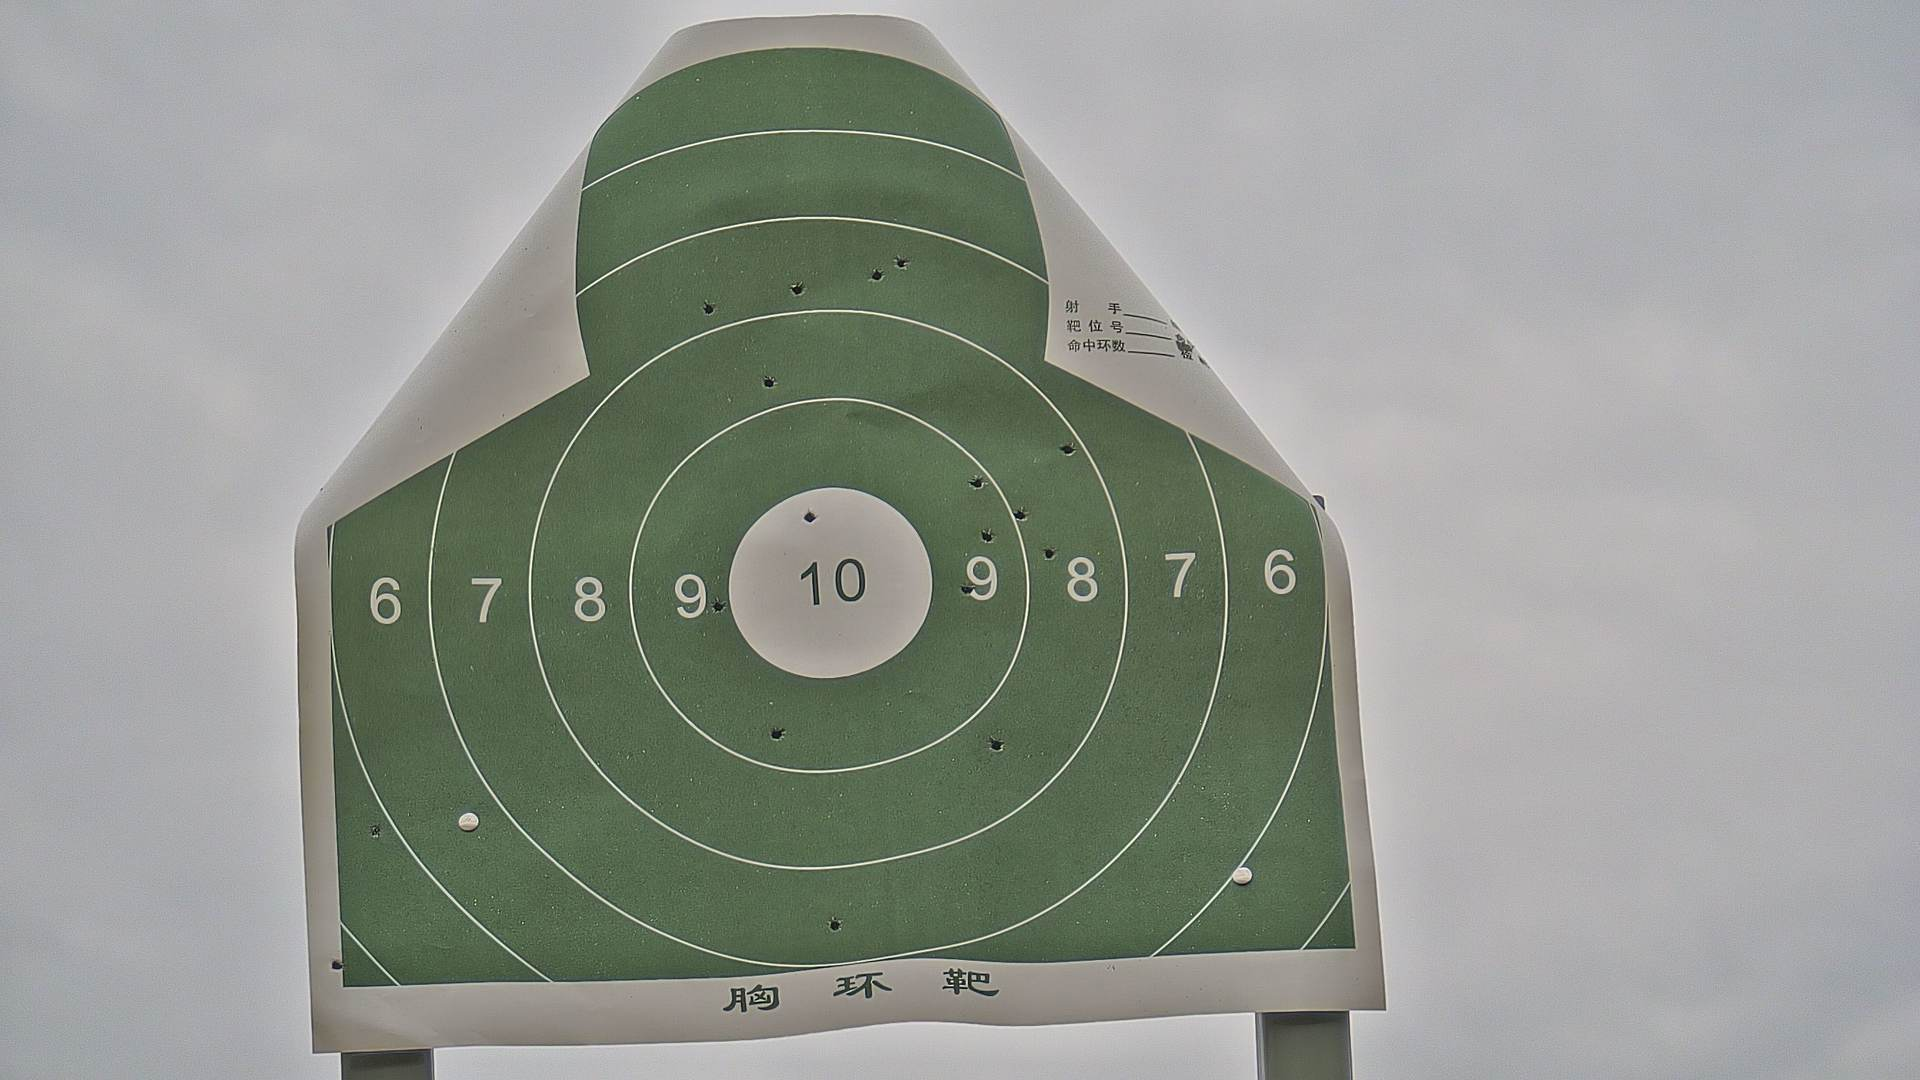hole: (864, 266, 891, 287), (982, 735, 1007, 756), (890, 253, 915, 274), (1056, 442, 1081, 460), (708, 596, 729, 617), (1009, 506, 1031, 526), (785, 281, 810, 297), (757, 375, 782, 390), (800, 508, 820, 527), (977, 527, 998, 546), (1040, 545, 1060, 563), (327, 956, 345, 976), (967, 476, 988, 493), (957, 580, 978, 597), (766, 727, 787, 742), (825, 918, 847, 934), (367, 823, 382, 841), (699, 302, 717, 315)
kernel: (822, 579, 832, 582)
target: (338, 46, 1357, 992)
ten: (727, 480, 930, 678)
